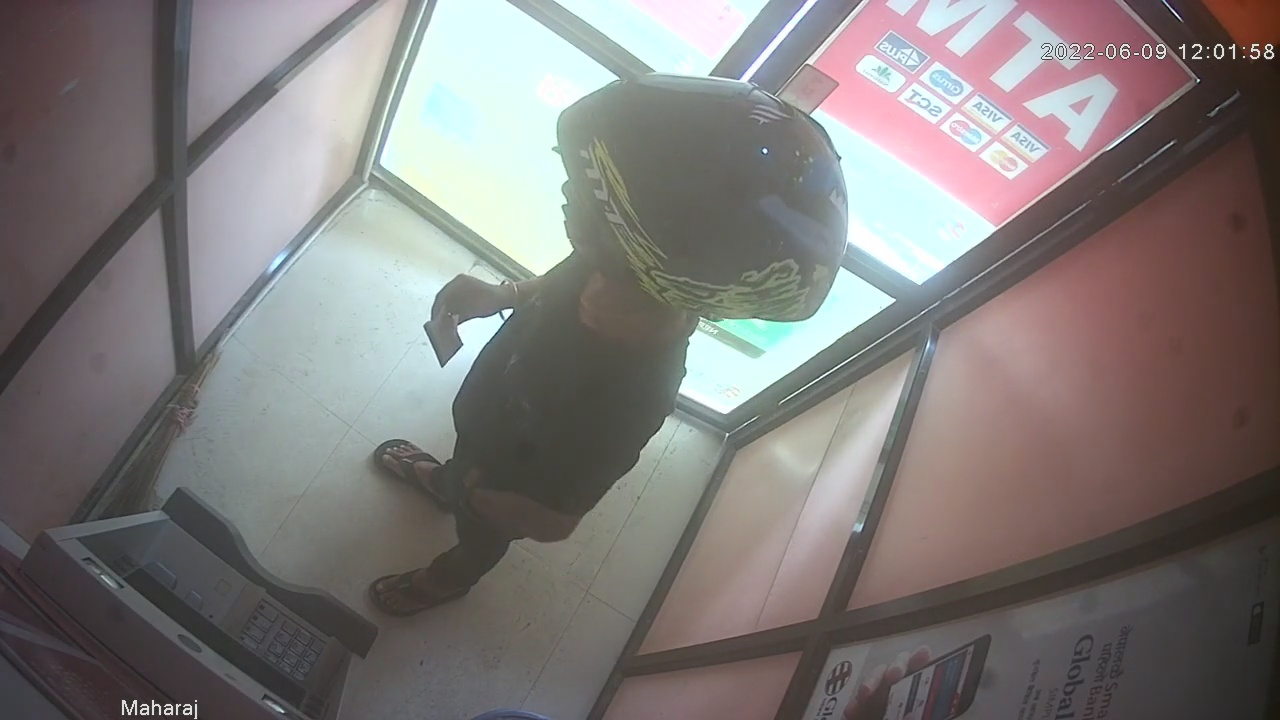helmet: (553, 72, 849, 324)
person: (369, 70, 851, 619)
